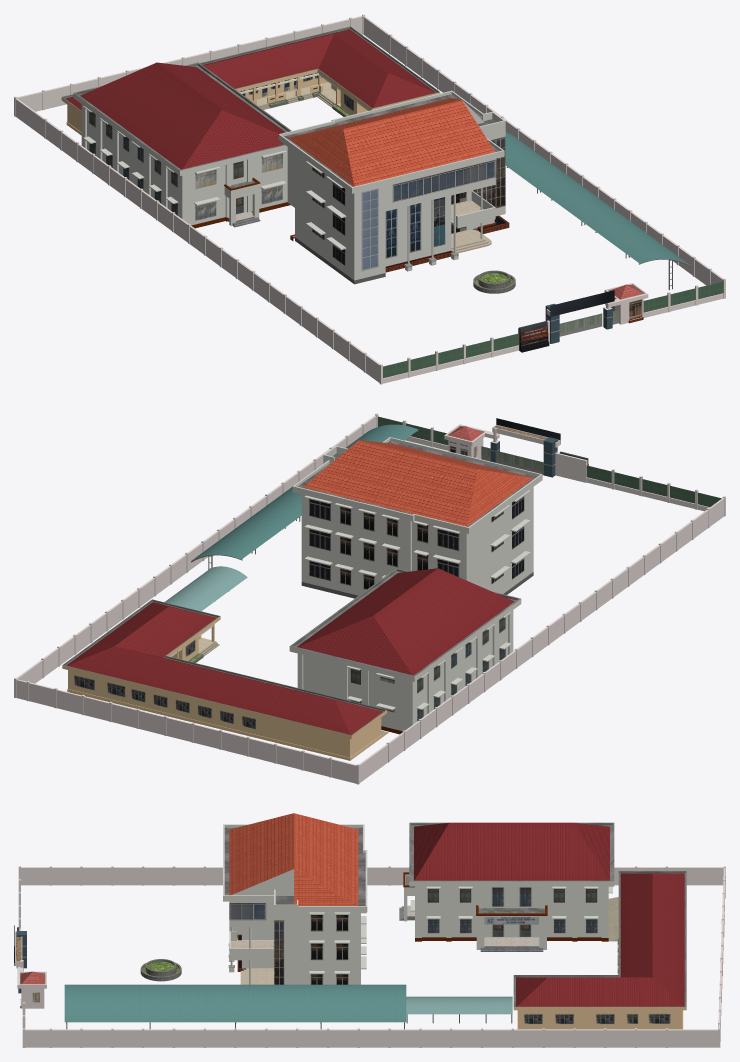
Rendered from Sở Thông Tin & Truyền Thông.glb.
The picture shows the model from 3 angles, top to bottom: view 1: azimuth 30°, elevation 25°; view 2: azimuth 150°, elevation 25°; view 3: azimuth 270°, elevation 25°; orthographic projection. The views are drawn at different scales.
Parts seen in each view (by area): view 1: BPH072_2, BPH072_3, BPH072.1, BPH072_4, BPH072.003, BPH072.002; view 2: BPH072_2, BPH072.1, BPH072_4, BPH072_3, BPH072.003; view 3: BPH072_3, BPH072_2, BPH072.1, BPH072_4, BPH072.003, BPH072.002.
Part boxes in pixels (x1,y1,x2,y2): BPH072_2: [278, 90, 509, 284]; BPH072_3: [73, 62, 291, 228]; BPH072.1: [14, 14, 725, 384]; BPH072_4: [61, 26, 440, 135]; BPH072.003: [505, 132, 690, 290]; BPH072.002: [473, 270, 515, 293]; BPH072_2: [292, 437, 542, 598]; BPH072.1: [14, 413, 725, 784]; BPH072_4: [62, 566, 388, 760]; BPH072_3: [289, 568, 521, 734]; BPH072.003: [191, 424, 418, 569]; BPH072_3: [399, 822, 614, 951]; BPH072_2: [223, 813, 367, 984]; BPH072.1: [14, 866, 725, 1047]; BPH072_4: [406, 871, 686, 1029]; BPH072.003: [64, 984, 406, 1029]; BPH072.002: [140, 959, 181, 981].
Size of the model in its own units: 45.01 by 15.54 by 82.97.
Materials: 4 (4 with a texture image).
